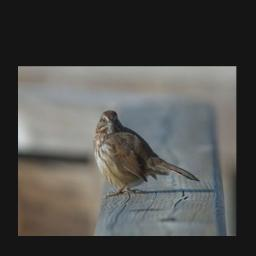Sparrow: (93, 110, 200, 198)
